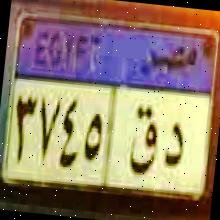3: (8, 86, 38, 168)
4: (56, 93, 82, 172)
5: (79, 106, 107, 168)
7: (31, 90, 63, 168)
daal: (160, 118, 188, 172)
qaaf: (125, 100, 161, 178)
